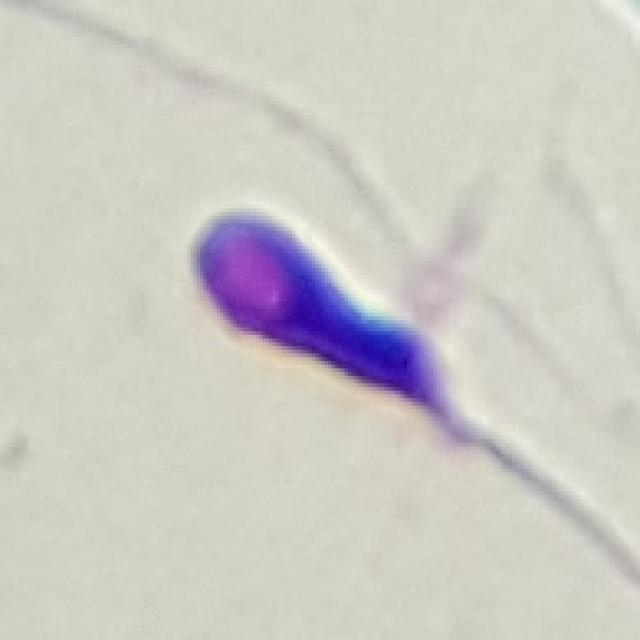abnormal sperm: (192, 205, 543, 489)
